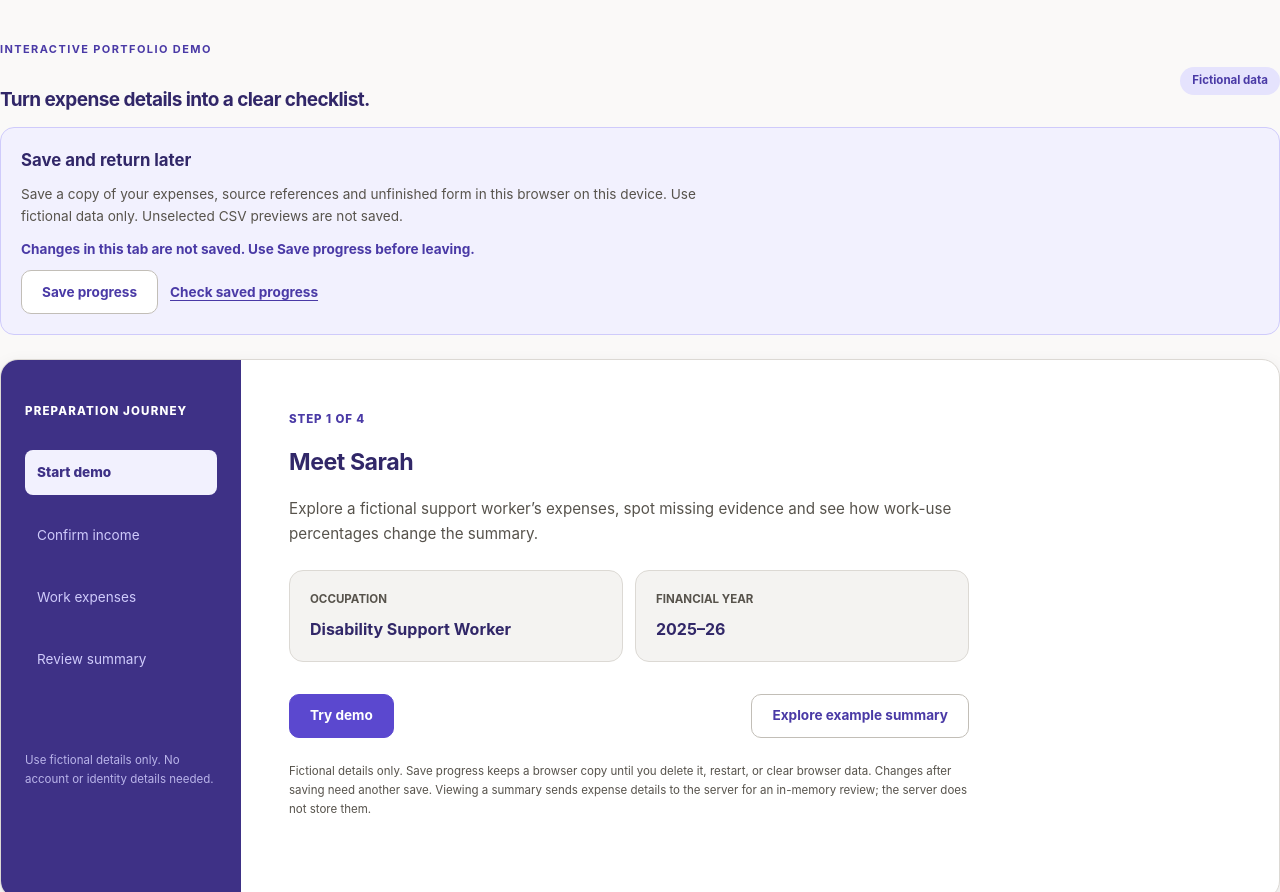
Test: times out even if the transport never settles
This screenshot has width=1280, height=892.
What coordinates should you click on to do the following:
click the button "Explore example summary"
I would click on:
 (860, 716)
Its box is [752,694,969,738].
Wait 15000 ms
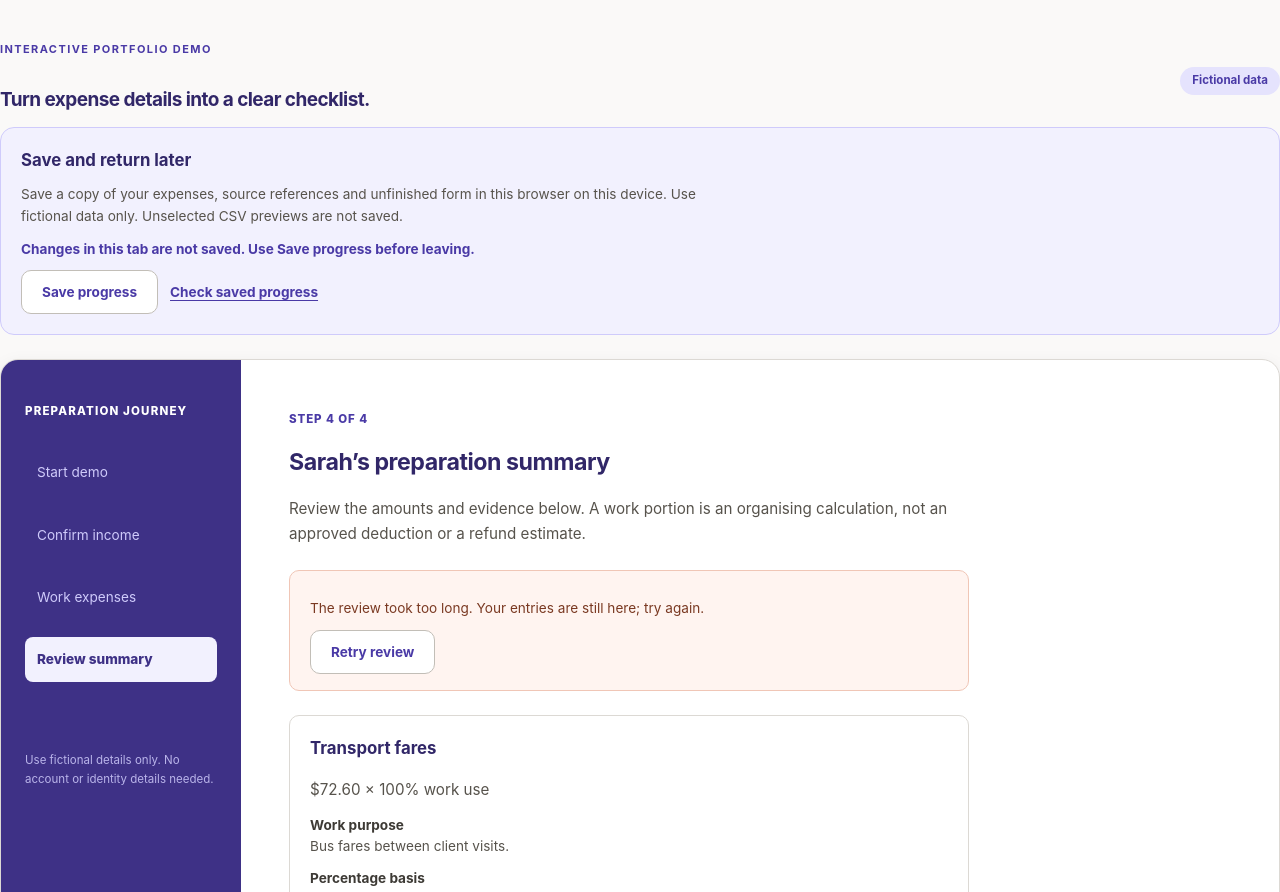
Expected: the message "The review took too long. Your entries are still here; try again." is shown, [310,600,704,616]
Expected: the button "Retry review" is enabled, [310,630,435,674]
